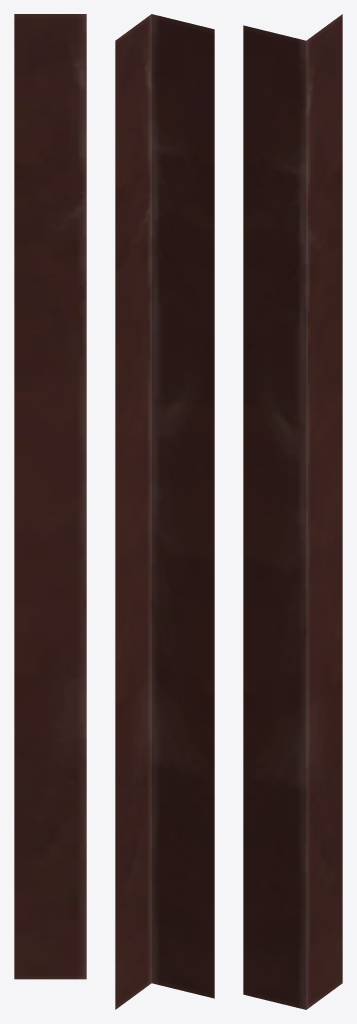
Rendered from lava_wall_convex_04.fbx.
The picture shows the model from 3 angles, left to right: view 1: azimuth 90°, elevation 25°; view 2: azimuth 150°, elevation 25°; view 3: azimuth 330°, elevation 25°; orthographic projection.
Visible parts, largest first — view 1: lava_tileset/trim_alpha_filler_depth_write; view 2: lava_tileset/trim_alpha_filler_depth_write; view 3: lava_tileset/trim_alpha_filler_depth_write.
Boxes of the visible parts, <box> form: lava_tileset/trim_alpha_filler_depth_write: <box>14,14,86,979</box>; lava_tileset/trim_alpha_filler_depth_write: <box>115,14,214,1009</box>; lava_tileset/trim_alpha_filler_depth_write: <box>243,14,342,1009</box>.
Bounding box in the file's own units: 0.374 × 5.5 × 0.375.
